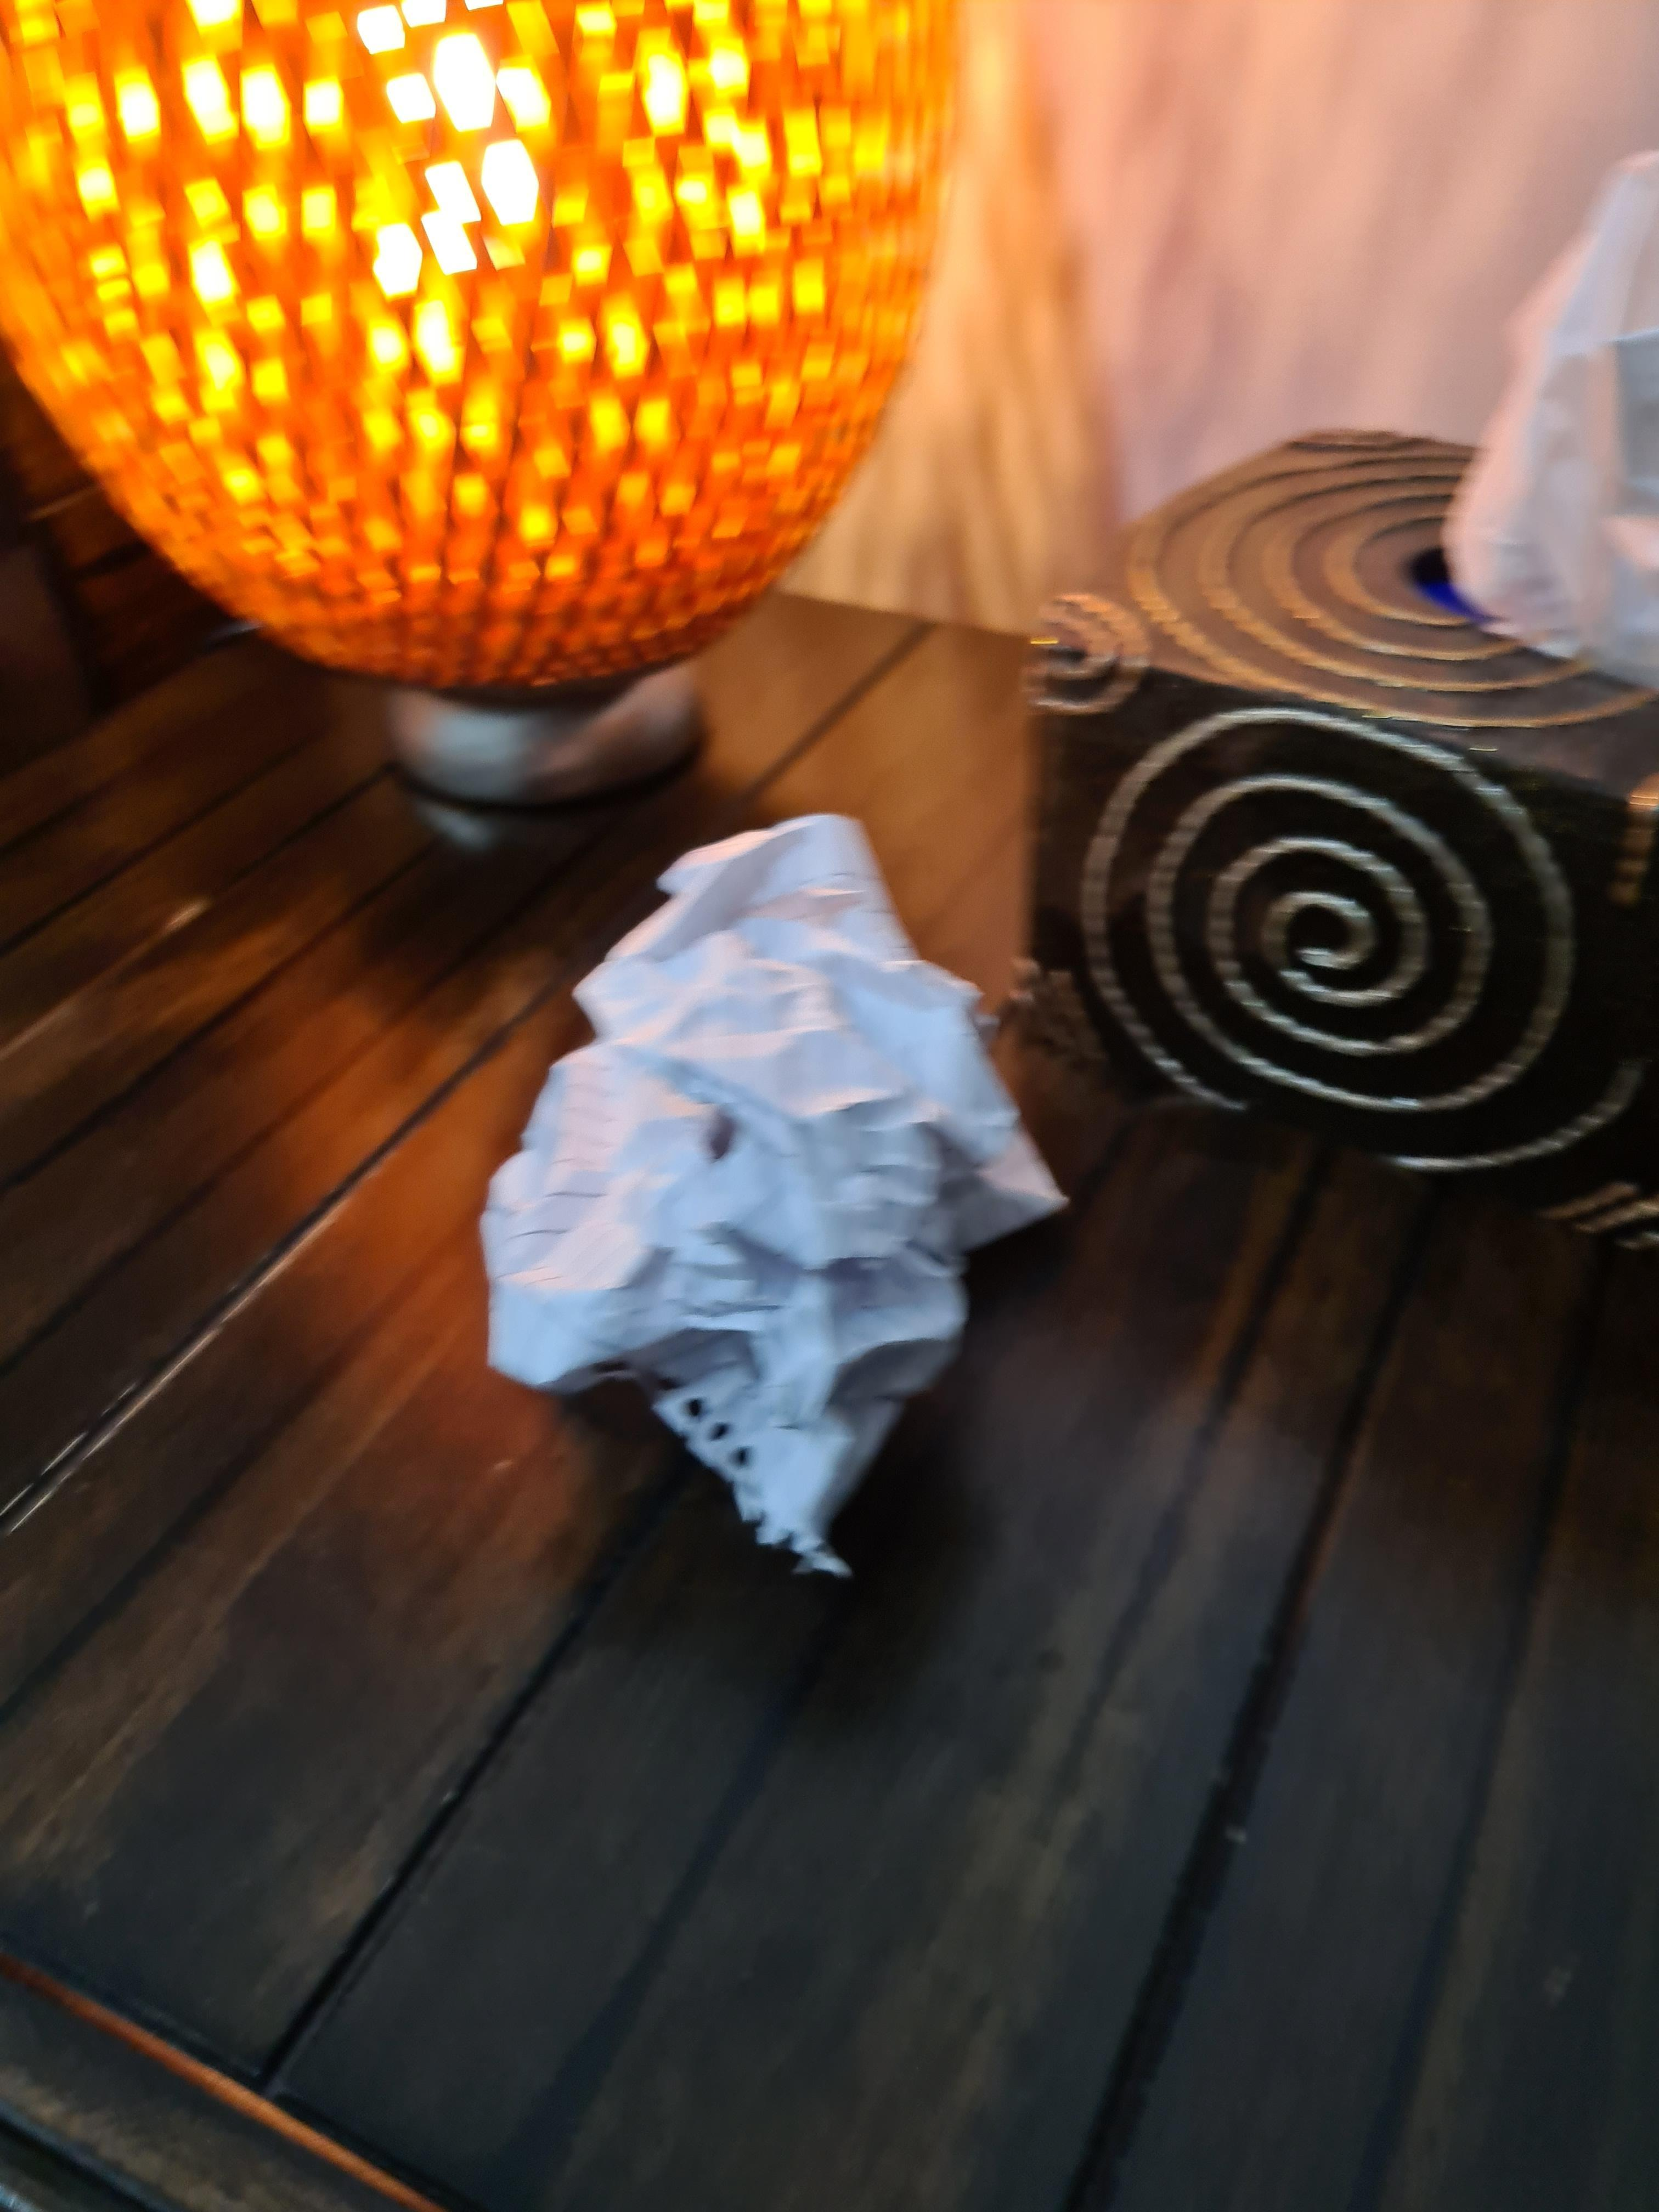Paper: (478, 791, 1061, 1527)
